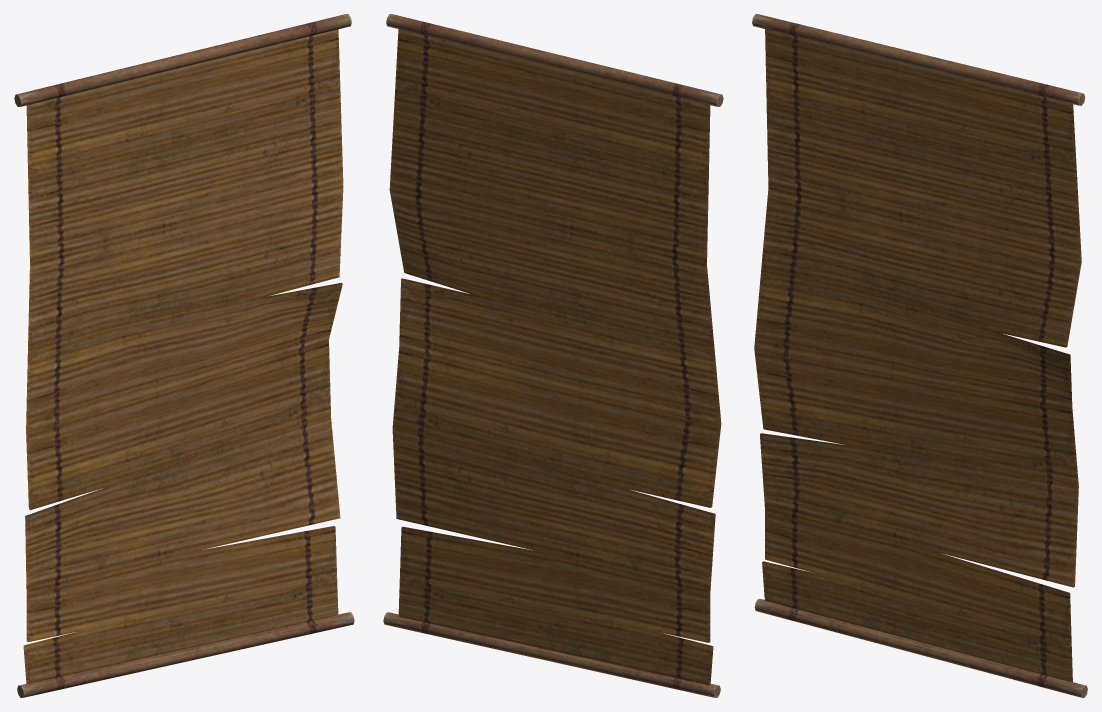
File: i_zx_zhuxi01_01.FBX
The picture shows the model from 3 angles, left to right: view 1: azimuth 30°, elevation 25°; view 2: azimuth 150°, elevation 25°; view 3: azimuth 330°, elevation 25°; orthographic projection.
Visible parts, largest first — view 1: i_zx_zhuxi01_01; view 2: i_zx_zhuxi01_01; view 3: i_zx_zhuxi01_01.
Part boxes in pixels (x1,y1,x2,y2): i_zx_zhuxi01_01: (14, 14, 354, 697); i_zx_zhuxi01_01: (383, 14, 723, 697); i_zx_zhuxi01_01: (752, 14, 1087, 697).
Bounding box in the file's own units: 2.3 × 4.03 × 0.1535.
